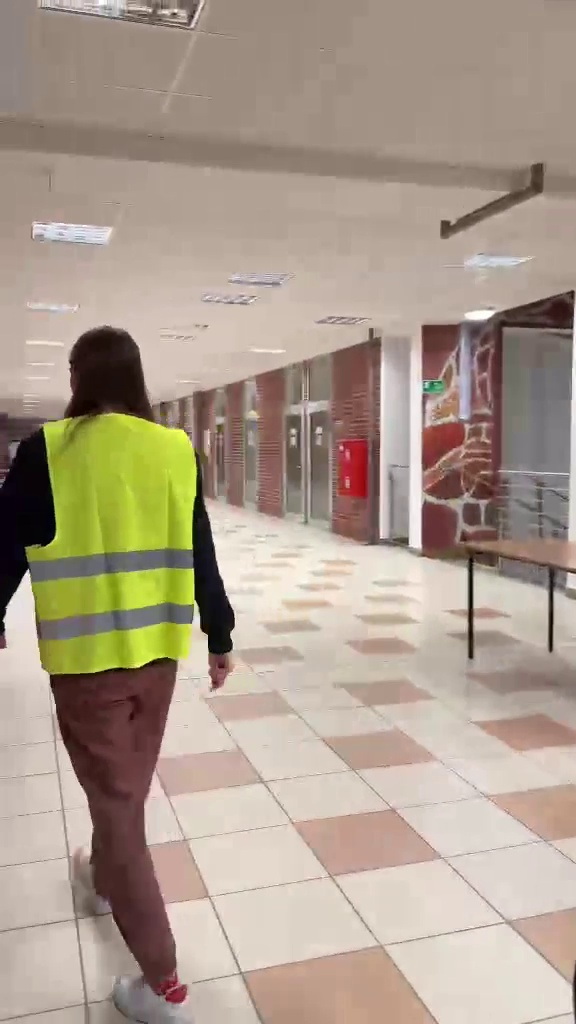vest: (6, 333, 223, 1014)
